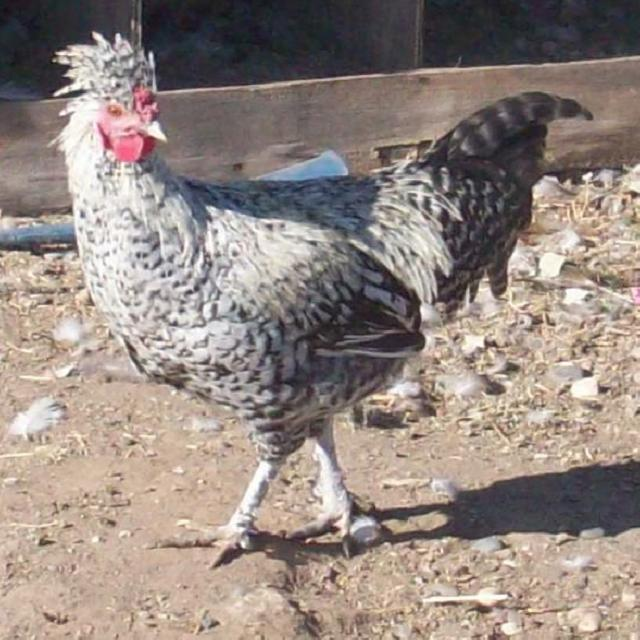Chicken: (43, 44, 590, 583)
